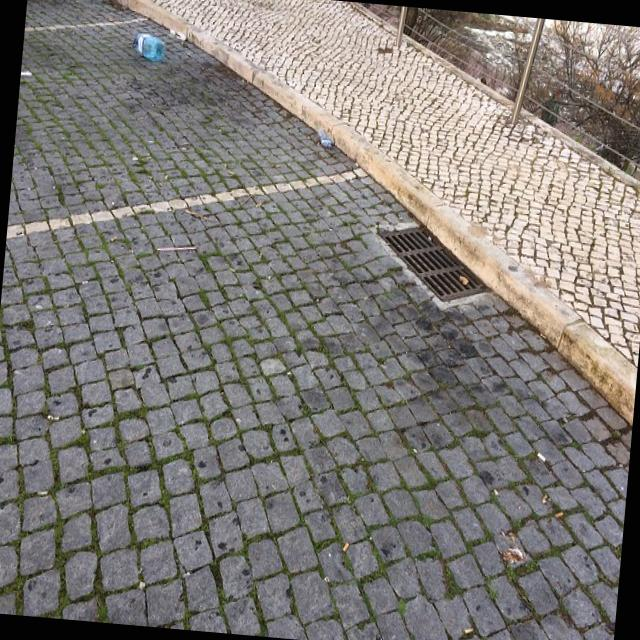Recycle: (132, 31, 166, 62)
